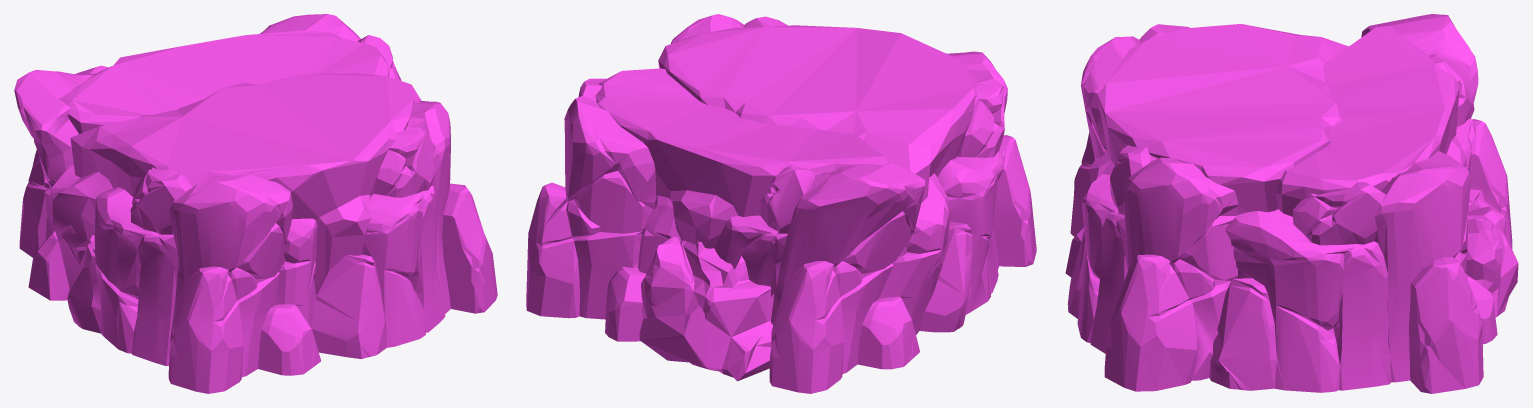
The model's file is SM_Pedestal_Giant_Rock_Fantasy.fbx.
3 renders of one model, left to right at view 1: azimuth 30°, elevation 25°; view 2: azimuth 150°, elevation 25°; view 3: azimuth 270°, elevation 25°, orthographic. The views are drawn at different scales.
Visible parts, largest first — view 1: SM_Pedestal_Giant_Rock_Fantasy; view 2: SM_Pedestal_Giant_Rock_Fantasy; view 3: SM_Pedestal_Giant_Rock_Fantasy.
Boxes of the visible parts, <box> form: SM_Pedestal_Giant_Rock_Fantasy: <box>14,14,497,393</box>; SM_Pedestal_Giant_Rock_Fantasy: <box>526,14,1036,393</box>; SM_Pedestal_Giant_Rock_Fantasy: <box>1065,14,1518,393</box>.
Bounding box in the file's own units: 11.36 × 6 × 11.67.
